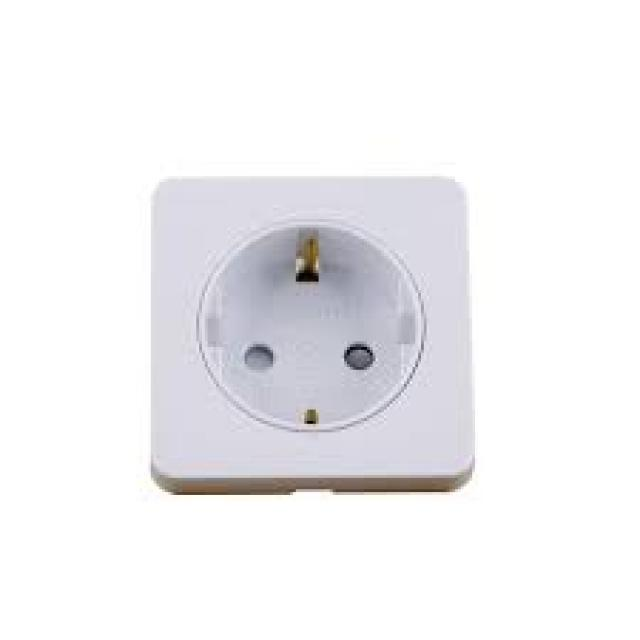typeb: (121, 168, 514, 516)
